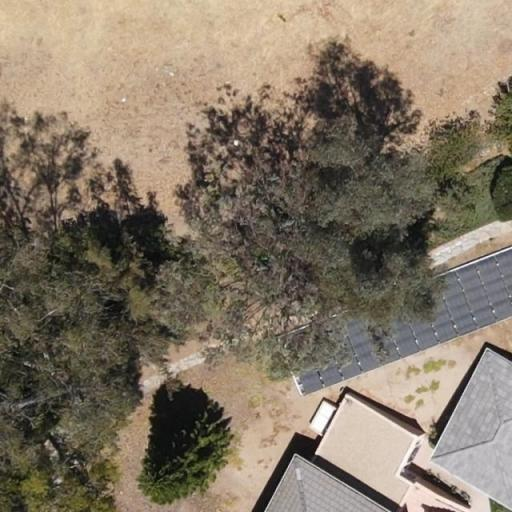solar-panel: (278, 248, 512, 398)
